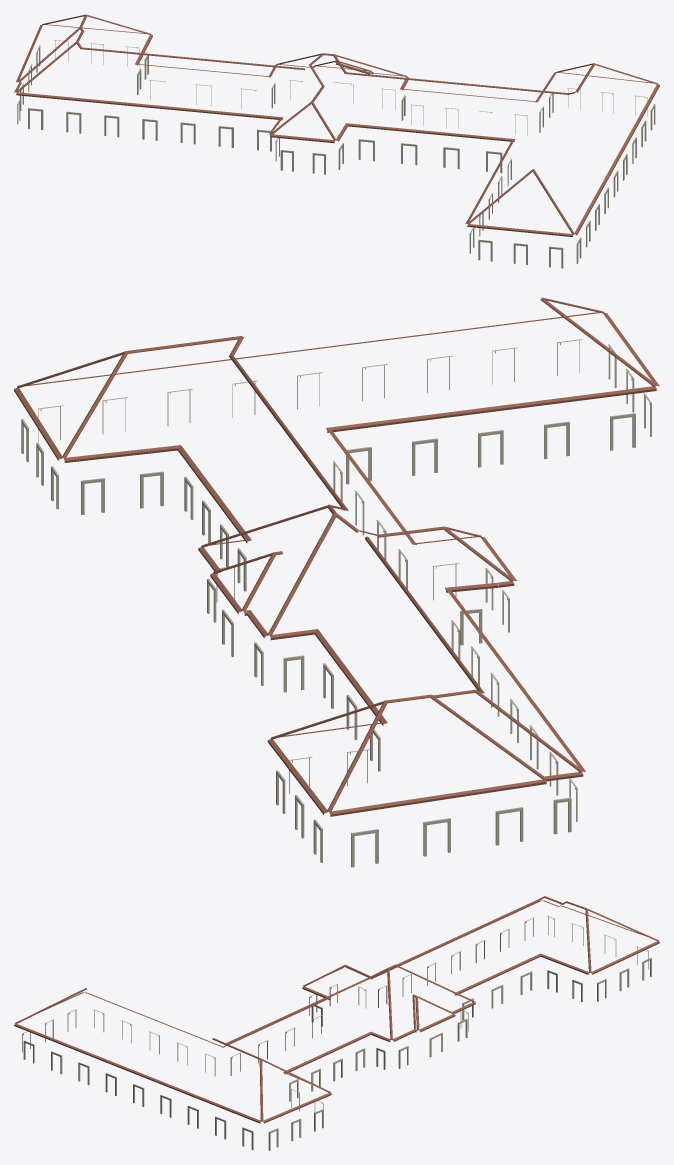
3 renders of one model, top to bottom at view 1: azimuth 30°, elevation 25°; view 2: azimuth 150°, elevation 25°; view 3: azimuth 270°, elevation 25°, orthographic. The views are drawn at different scales.
Visible parts, largest first — view 1: detail; view 2: detail; view 3: detail.
Part boxes in pixels (x1,y1,x2,y2): detail: [14, 14, 659, 268]; detail: [14, 297, 659, 867]; detail: [14, 896, 659, 1150].
Bounding box in the file's own units: 62.31 × 9.26 × 76.57.
